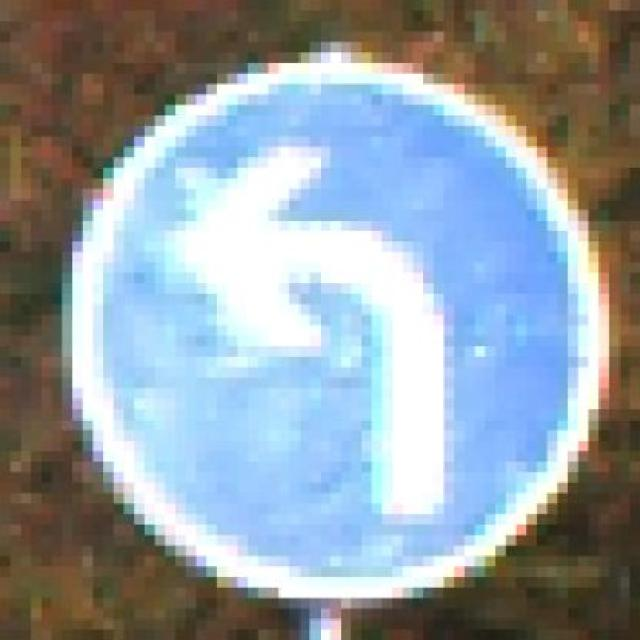Turn left ahead: (62, 39, 620, 616)
